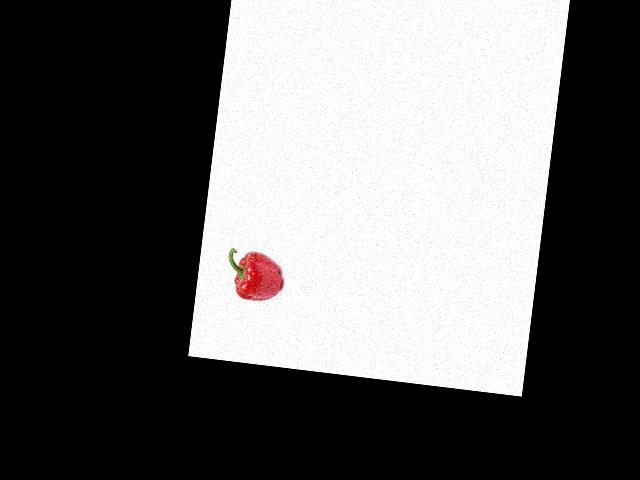bell_pepper: (222, 244, 287, 308)
